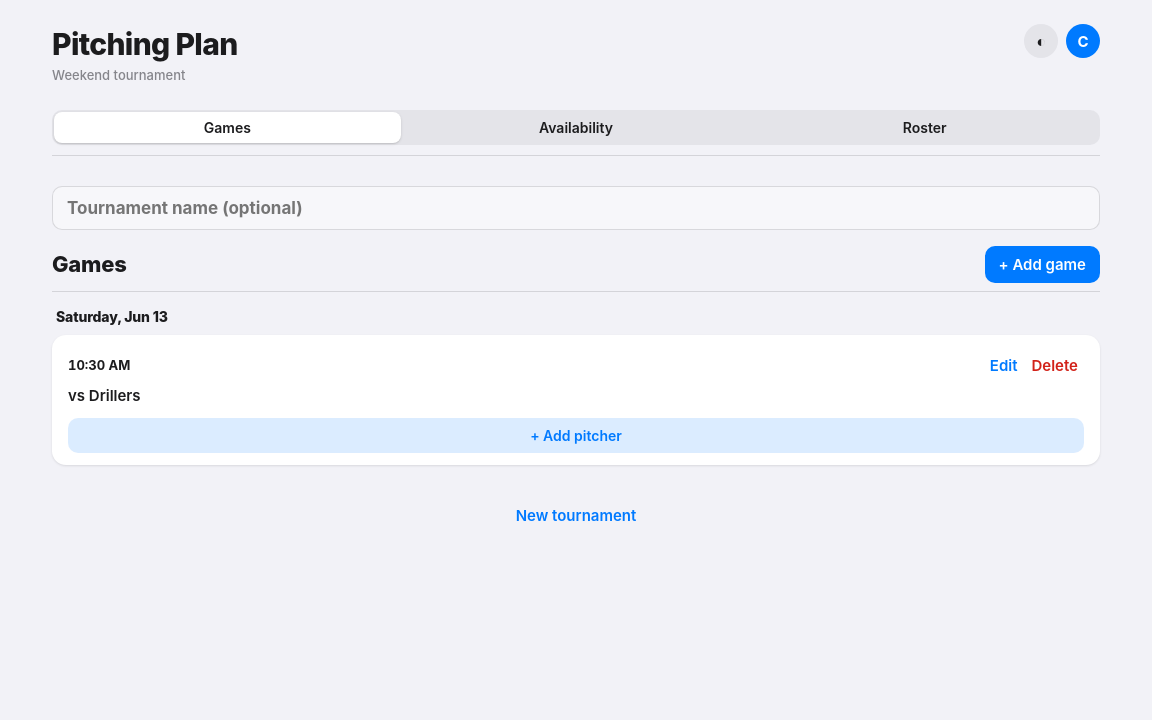
Test: tournament app › assigns innings to a game and reflects them in availability
Click the button "+ Add pitcher": (576, 436) [68, 418, 1084, 453]
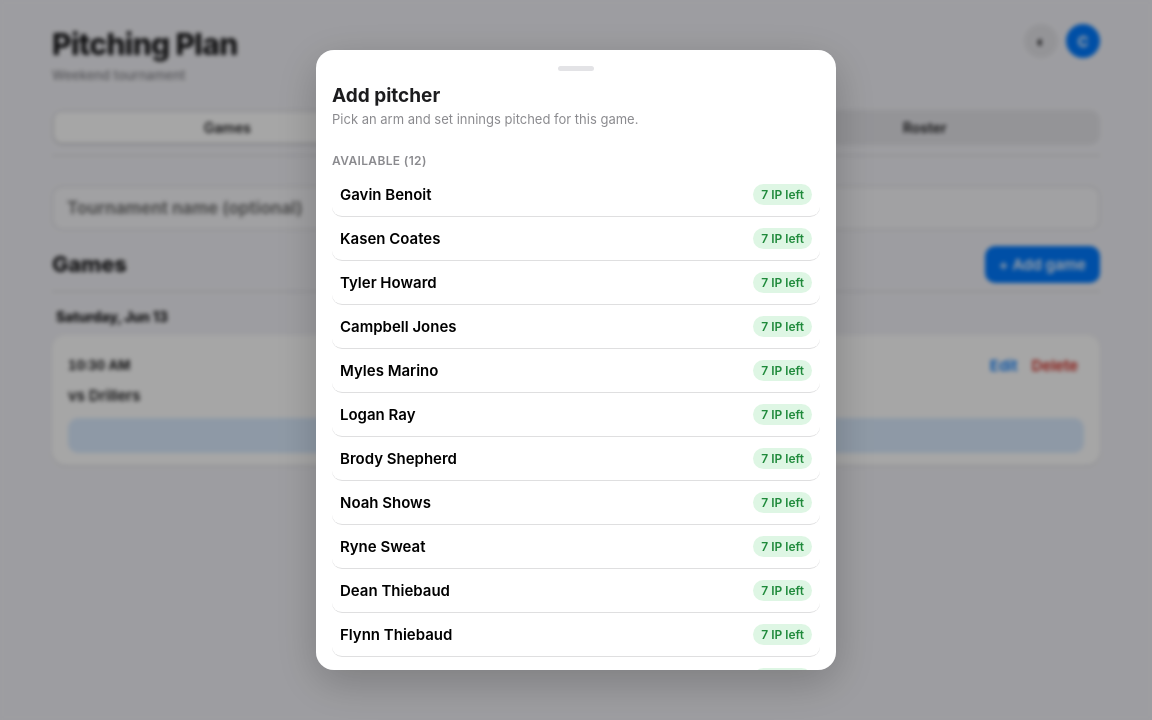
Click the text "Campbell Jones": (398, 326) [340, 317, 456, 336]
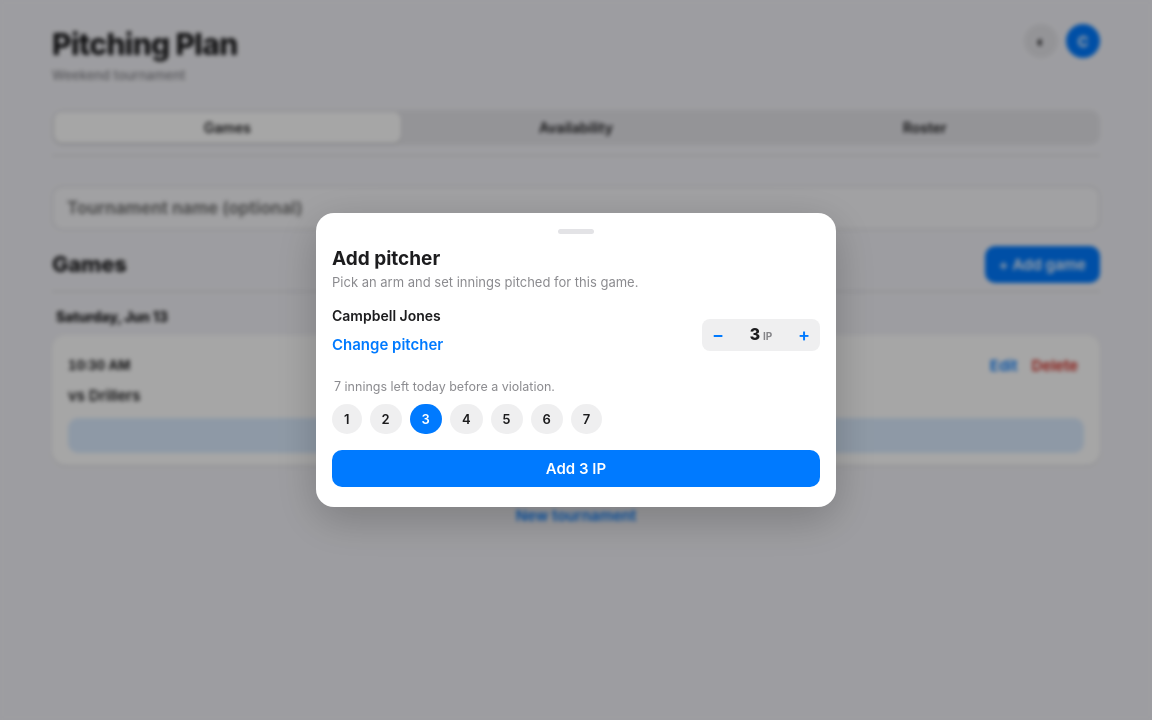
Click the button "Add 3 IP": (576, 468) [332, 450, 820, 487]
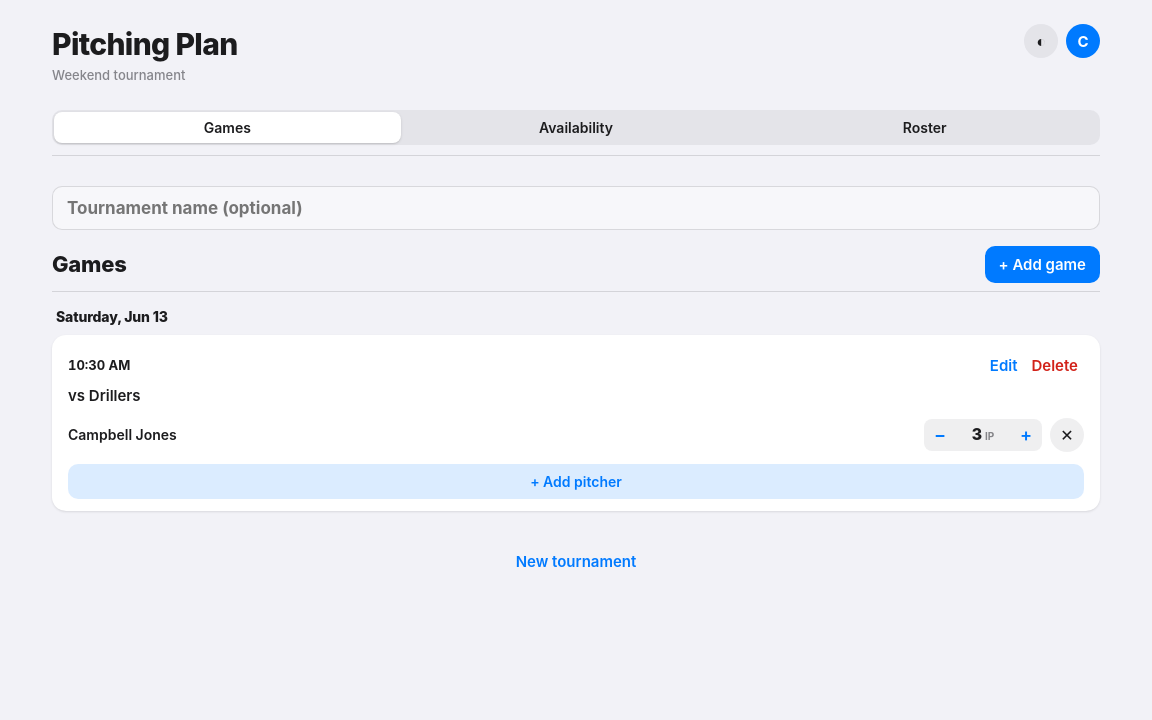
Click the tab "Availability": (576, 128) [403, 112, 749, 143]
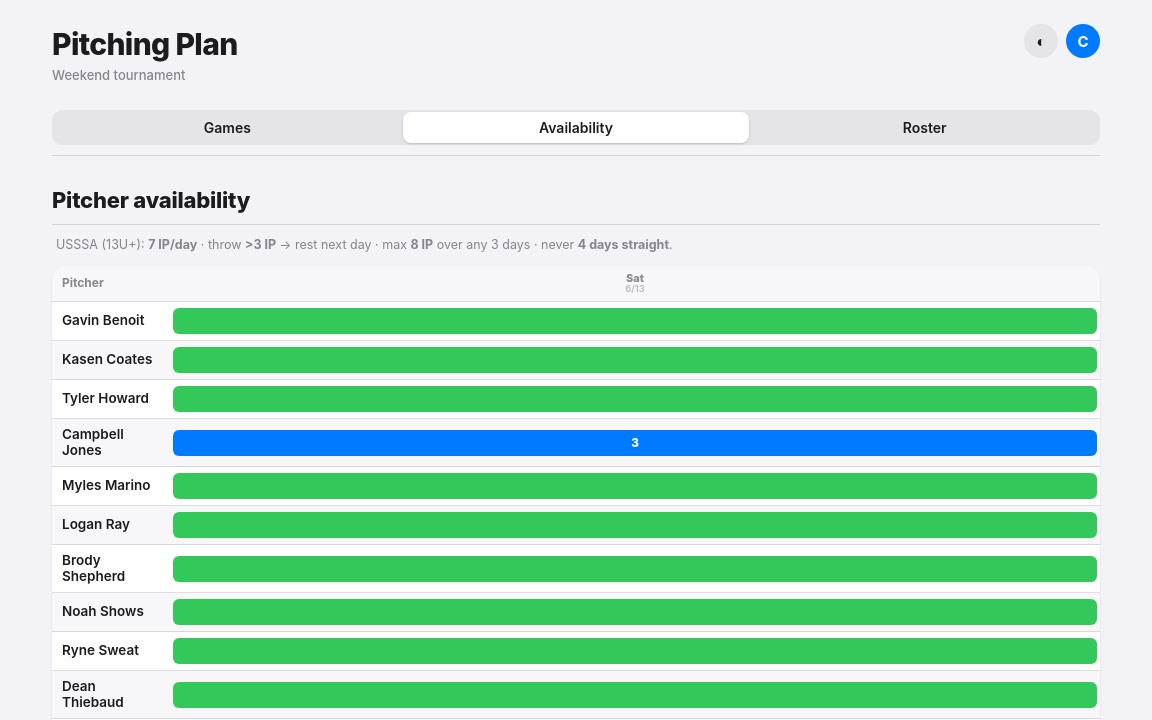
Result: the text titled "3 IP" is shown at [173, 430, 1097, 456]
